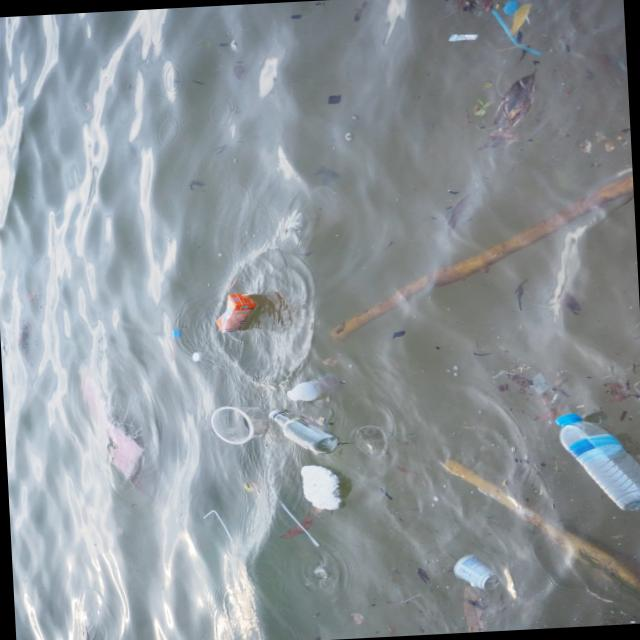foam: (293, 460, 350, 515)
plastic bottle: (551, 404, 640, 522), (268, 404, 343, 460), (286, 368, 348, 405)
